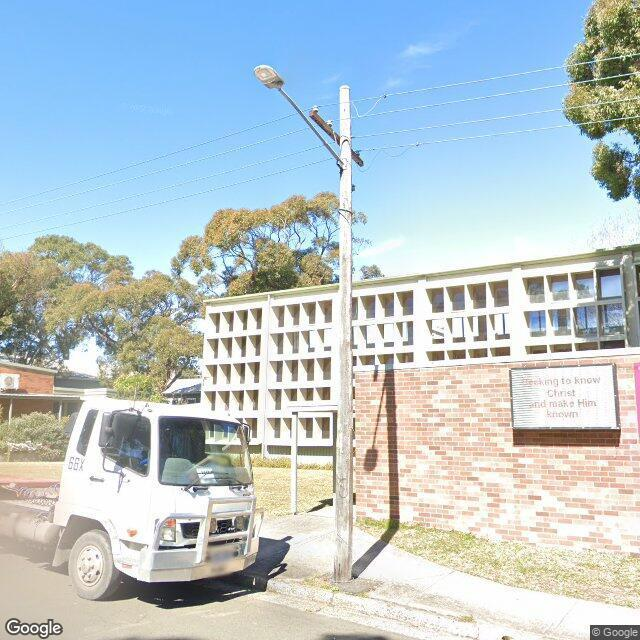crossarm: (309, 108, 364, 168)
streetlight: (252, 63, 344, 170)
timber-pole: (333, 86, 354, 582)
